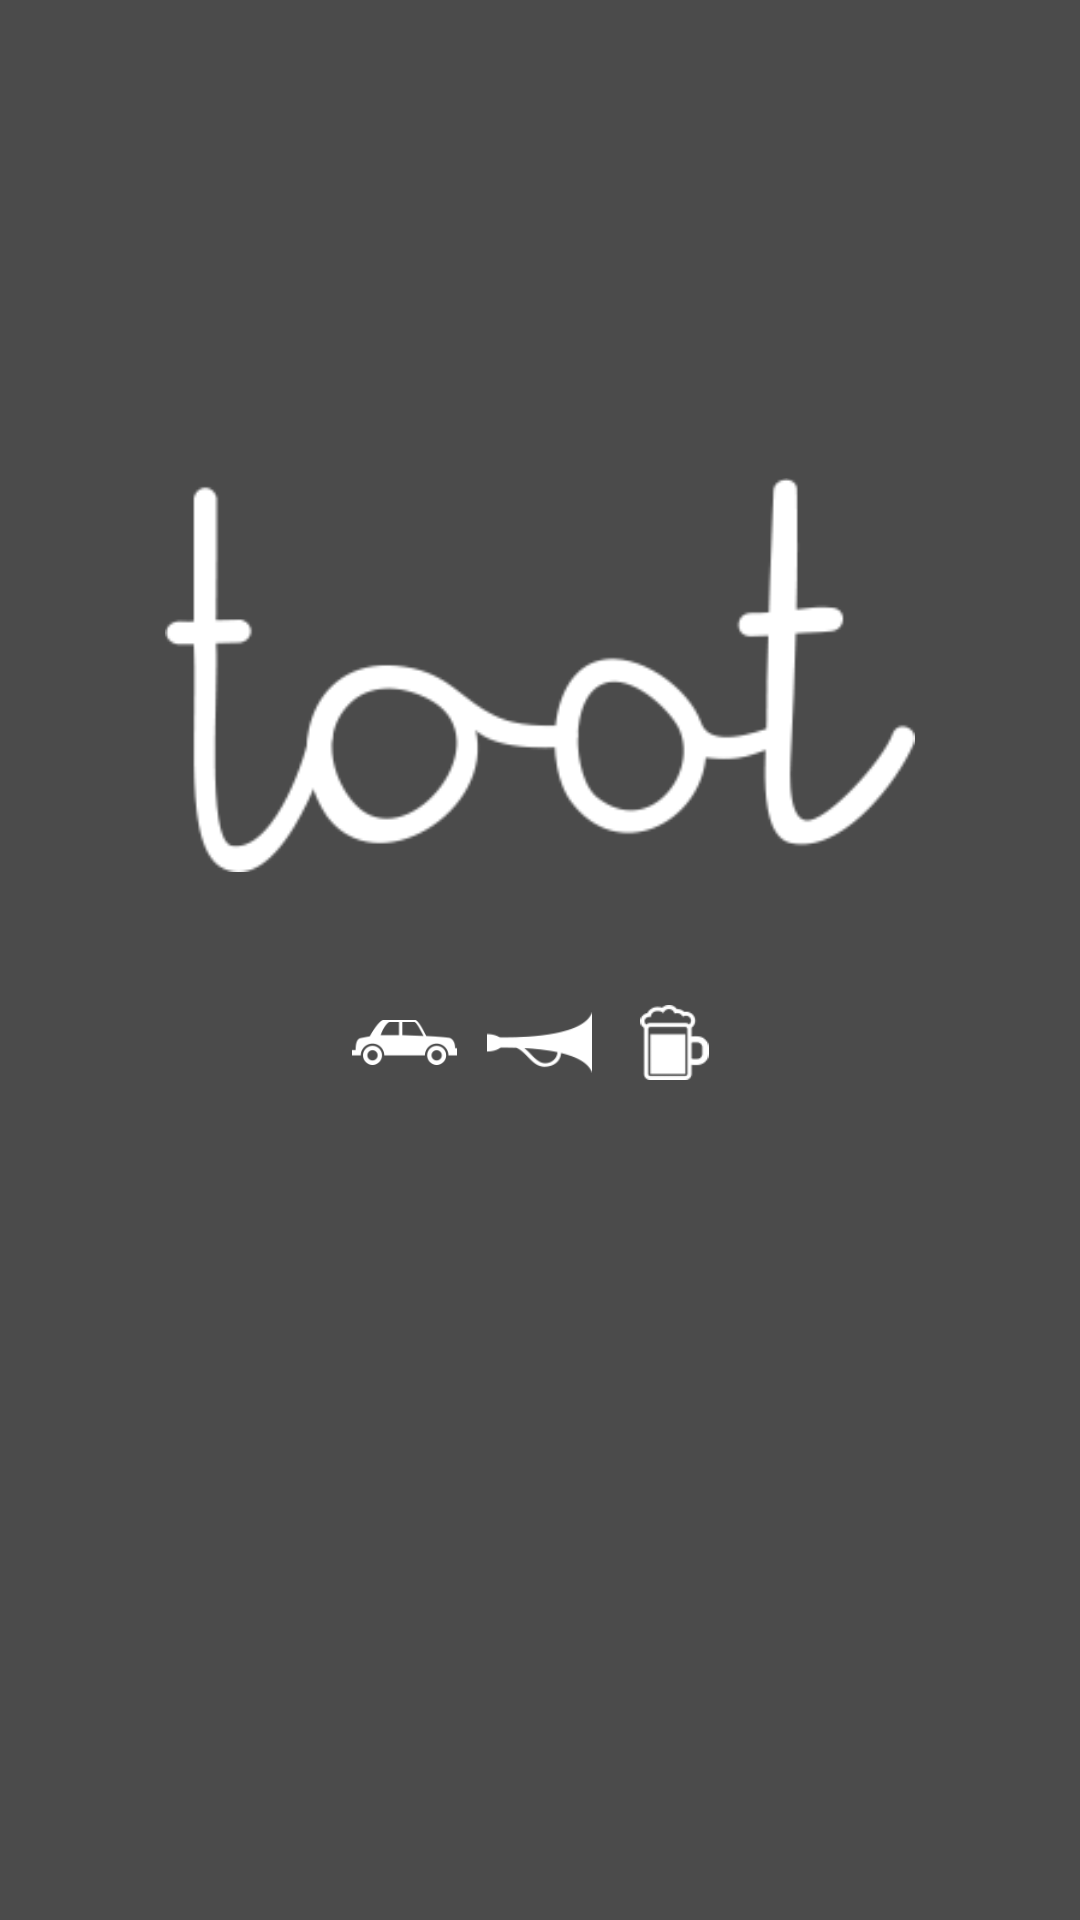

Screen size 1080*1920. Icon name, then its center in pixels as (x,y):
beer: (674,1042)
car: (404,1042)
horn: (539,1042)
